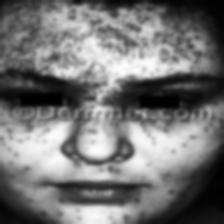Toxin: (78, 78, 126, 107)
